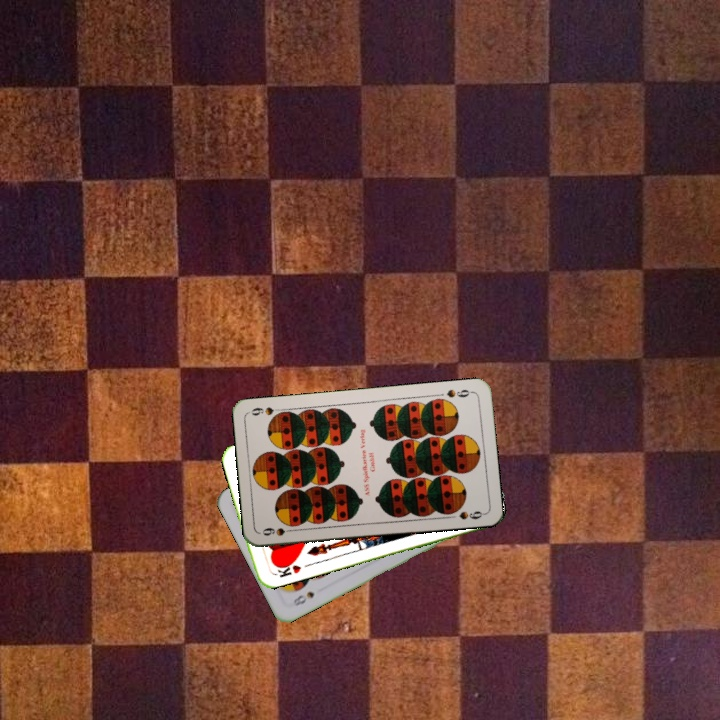HK: (268, 557, 303, 580)
S8: (289, 587, 317, 609)
S9: (258, 524, 299, 538), (443, 385, 475, 400)
